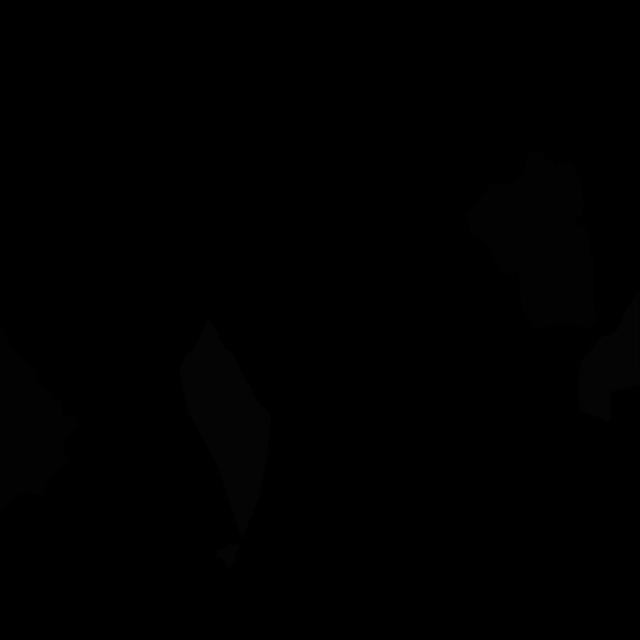cardboard: (467, 150, 584, 275), (0, 324, 54, 511), (519, 223, 597, 330), (45, 399, 80, 486)
soft_plastic: (179, 317, 271, 540), (577, 290, 640, 422), (216, 544, 240, 568)
